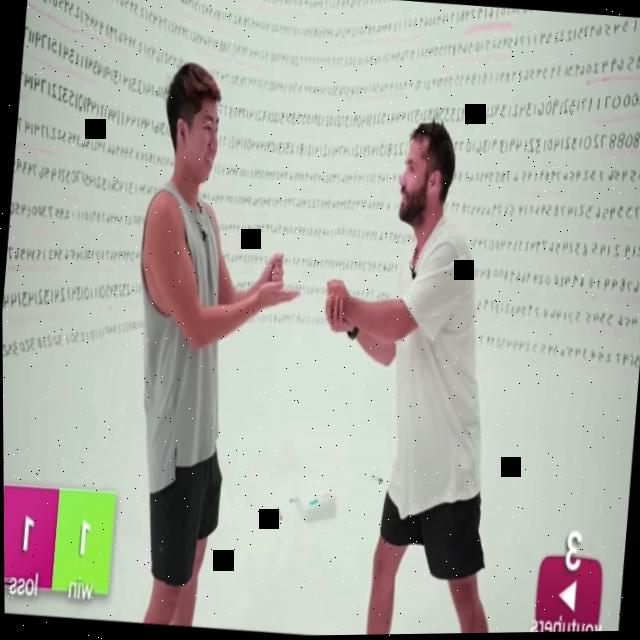Rock: (324, 273, 349, 322), (261, 247, 285, 287)
